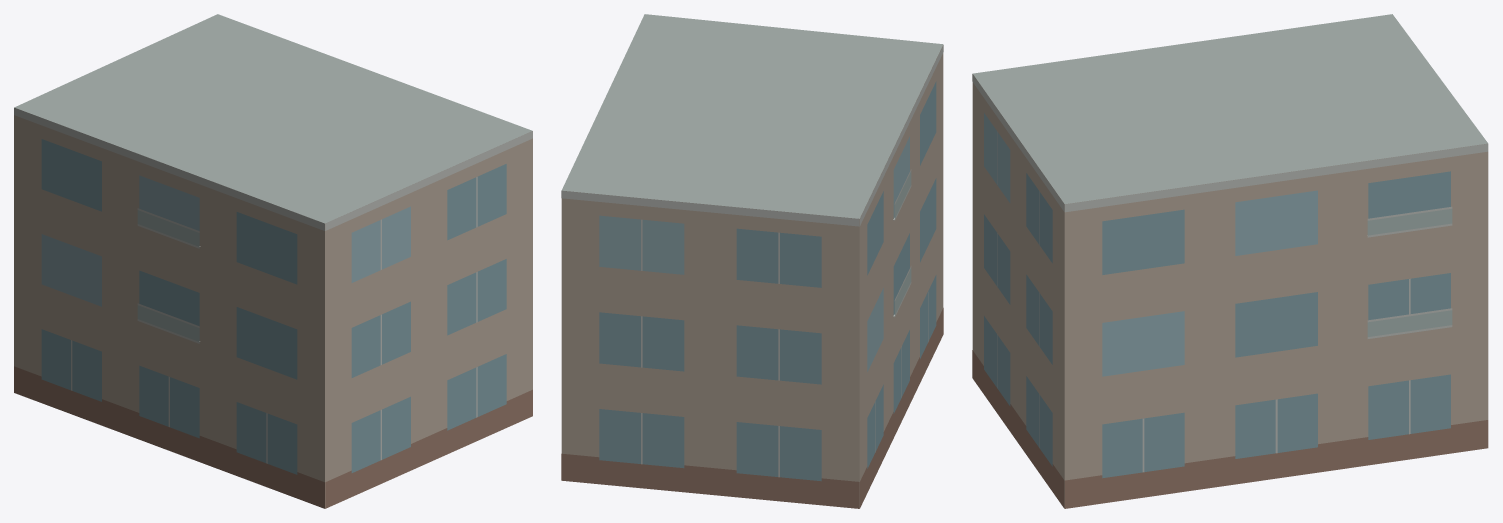
Rendered from survey-upis-32621911.glb.
The picture shows the model from 3 angles, left to right: view 1: azimuth 30°, elevation 25°; view 2: azimuth 150°, elevation 25°; view 3: azimuth 270°, elevation 25°; orthographic projection. The views are drawn at different scales.
Visible parts, largest first — view 1: survey-upis-32621911.tmp; view 2: survey-upis-32621911.tmp; view 3: survey-upis-32621911.tmp.
Part boxes in pixels (left/top/right/bottom): survey-upis-32621911.tmp: left=14, top=14, right=532, bottom=508; survey-upis-32621911.tmp: left=561, top=14, right=943, bottom=508; survey-upis-32621911.tmp: left=972, top=14, right=1488, bottom=508.
Bounding box in the file's own units: 12.27 × 9.15 × 14.05.
